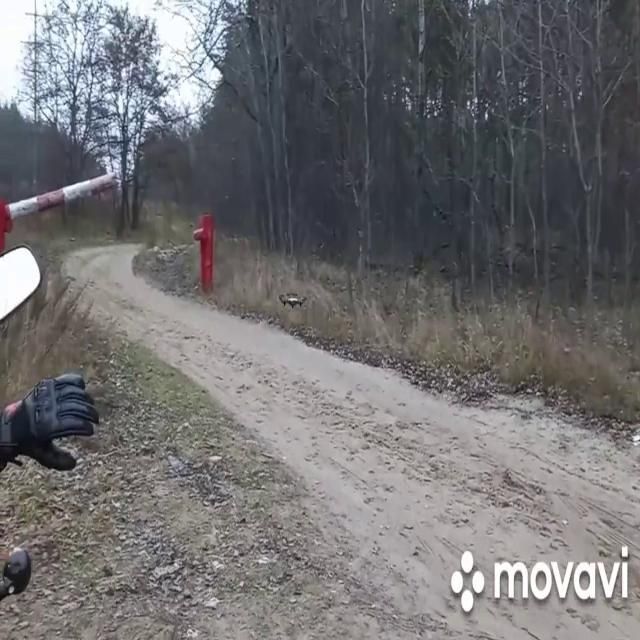Drons: (277, 292, 307, 310)
